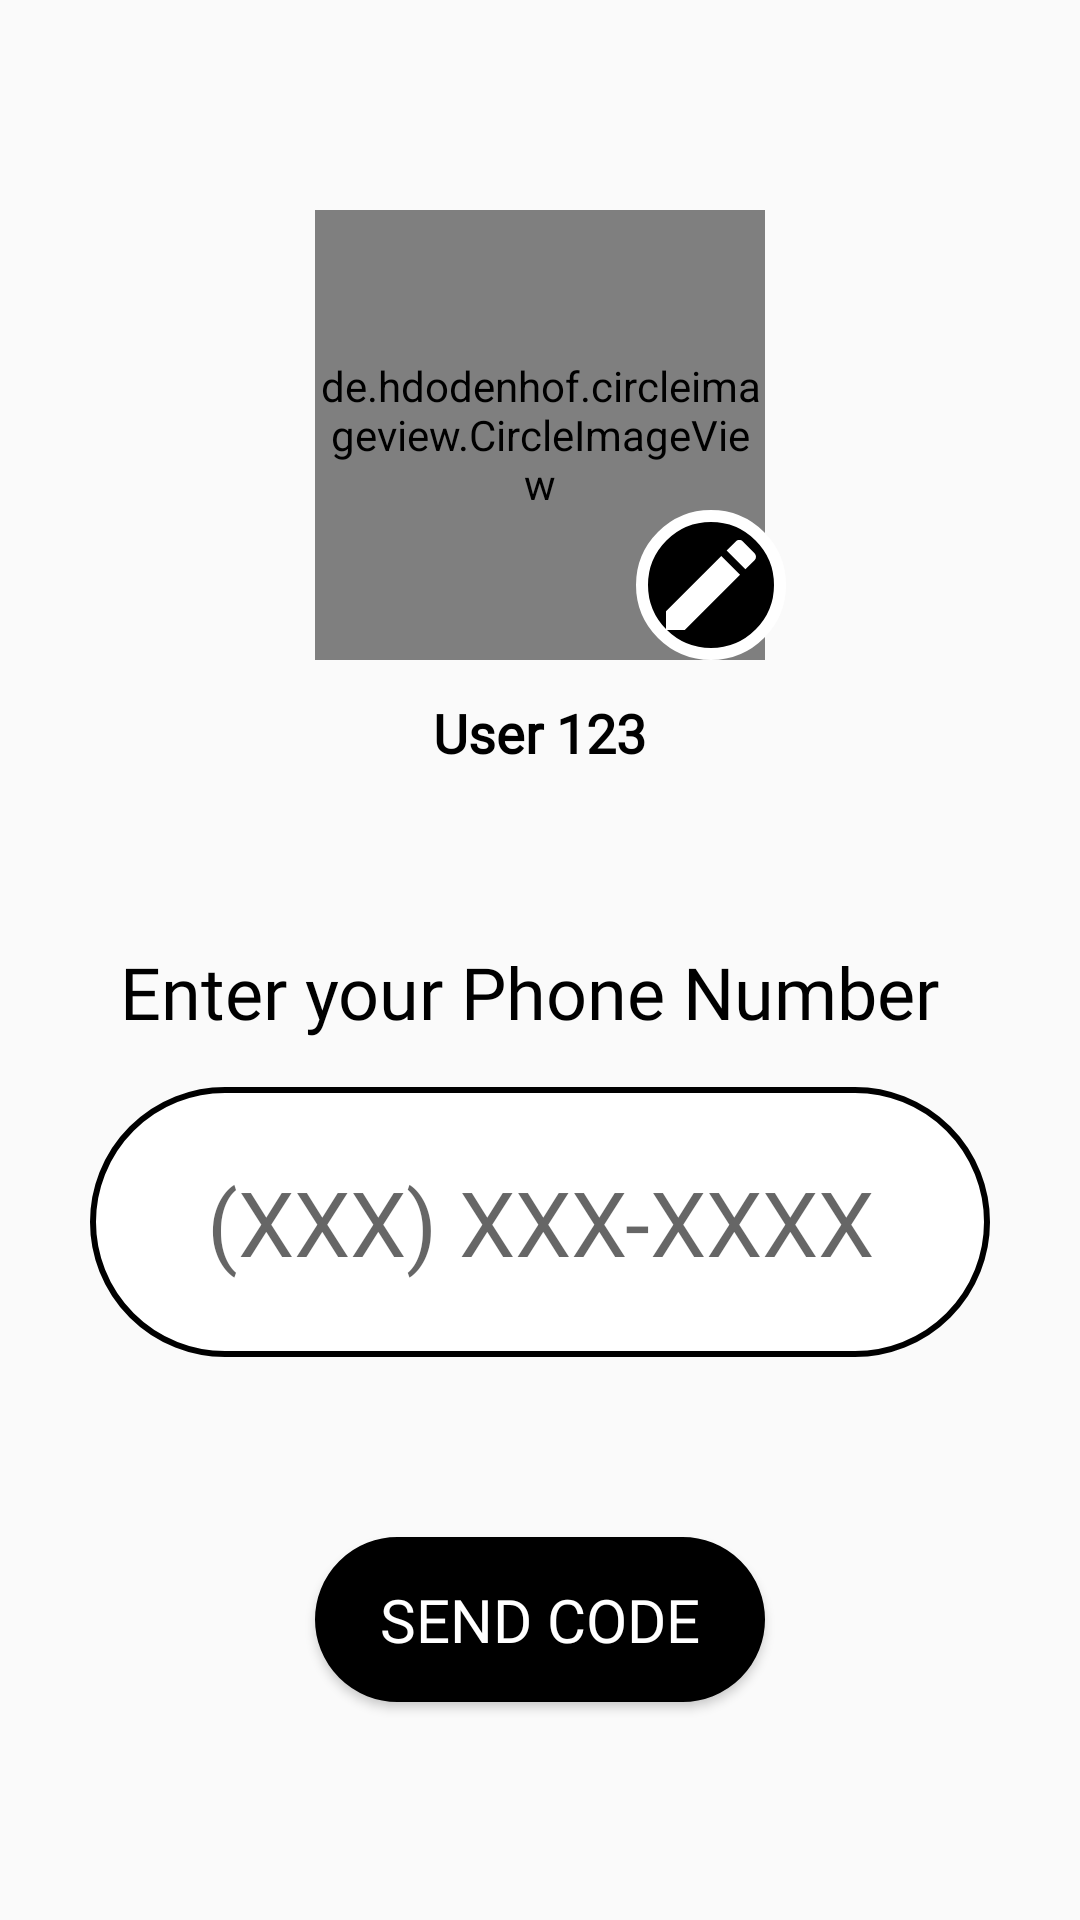

Point at icon controls on the screen. Image size 1080 x 1920, points as (x=x, y=y).
Edit Profile photo: (x=711, y=585)
